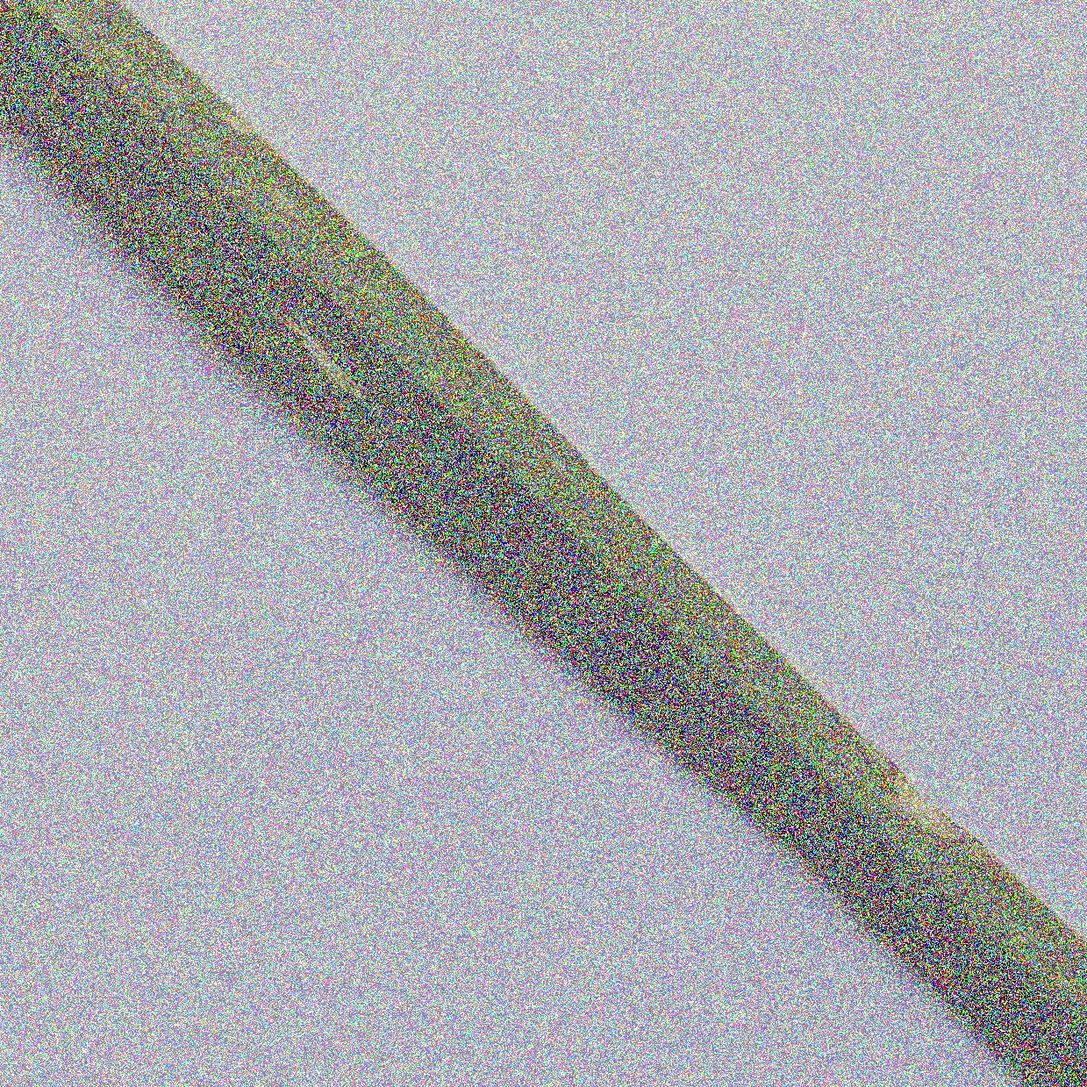Brown_Spot: (861, 730, 999, 855), (269, 284, 385, 410)
